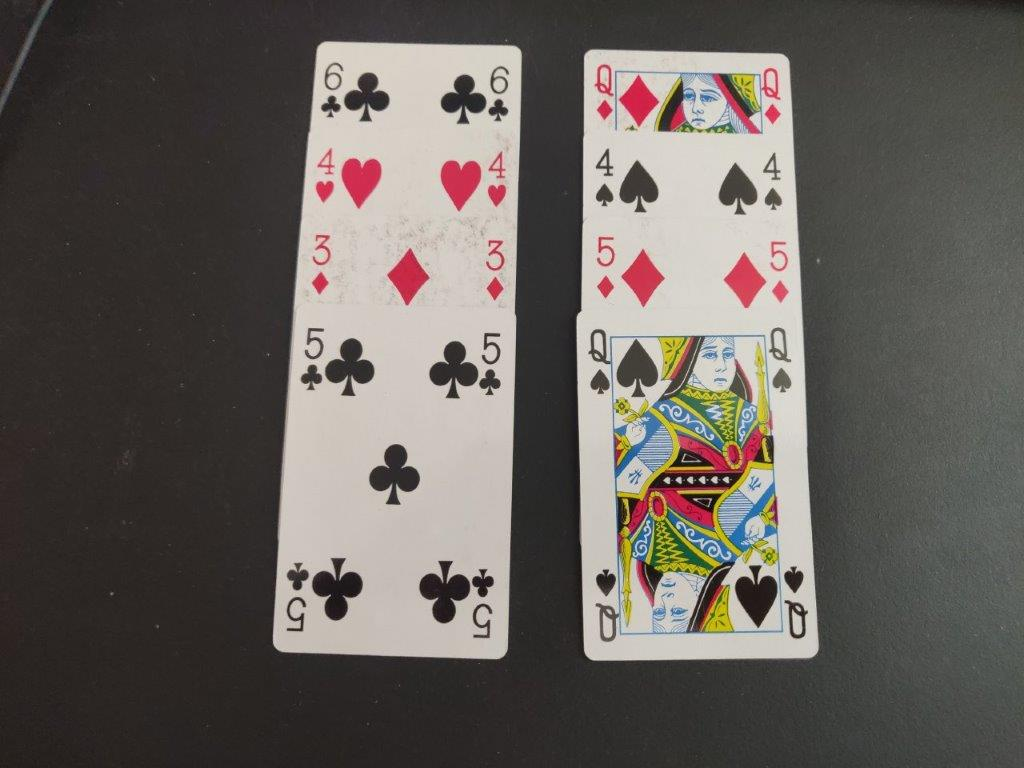3D: (303, 230, 336, 297), (479, 233, 508, 304)
4H: (309, 142, 339, 210), (485, 146, 509, 212)
4S: (761, 142, 786, 219), (591, 143, 616, 210)
5C: (296, 321, 326, 394), (476, 329, 506, 402)
5D: (590, 230, 619, 304), (767, 236, 791, 305)
6C: (319, 56, 347, 123), (485, 58, 513, 125)
QD: (590, 57, 616, 124), (760, 63, 784, 130)
QS: (584, 324, 616, 402), (765, 323, 796, 399)
